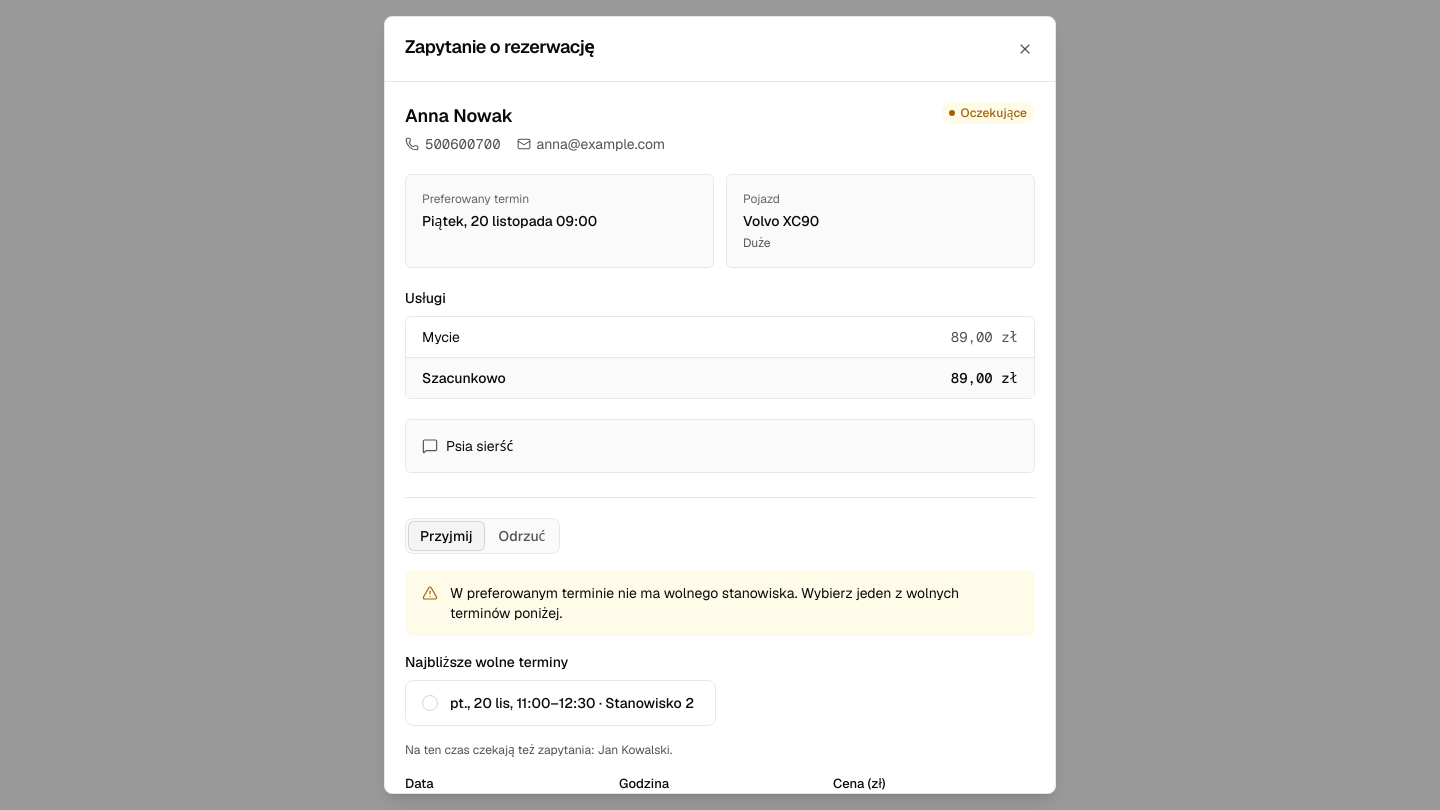
Test: RequestDetailsModal › shows the request and the plan, and accepts it on a picked free slot and bay
This screenshot has width=1440, height=810.
Later steps or results of the test are not shown.
expect the text "Anna Nowak" is shown: met, box [405,104,513,127]
expect the text "Psia sierść" is shown: met, box [405,419,1035,473]
Click the radio button labelled "pt., 20 lis, 11:00–12:30 · Stanowisko 2": (560, 703) [405,680,716,726]
(page scrolled)
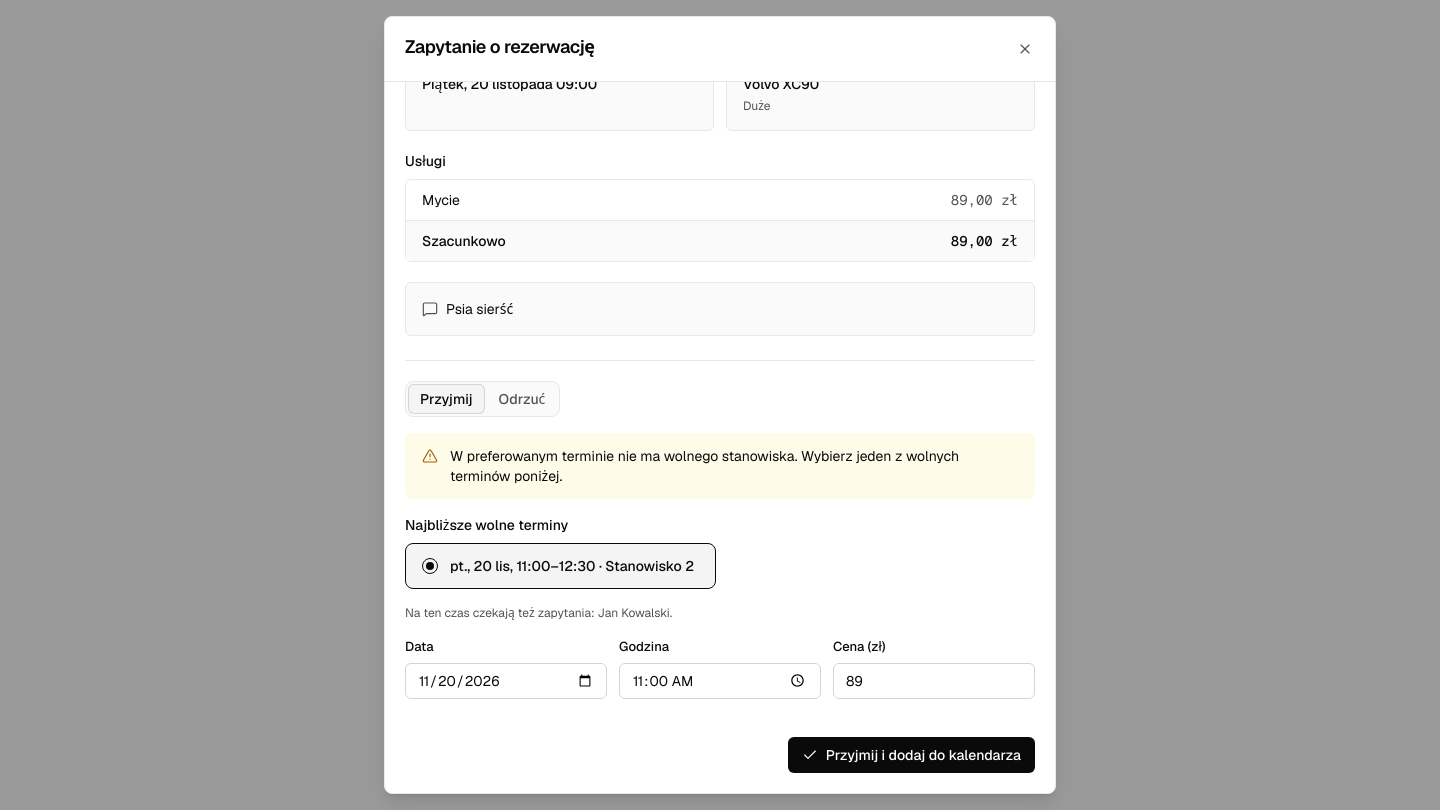
expect the time field showing "11:00" is shown: met, box [619,662,821,698]
